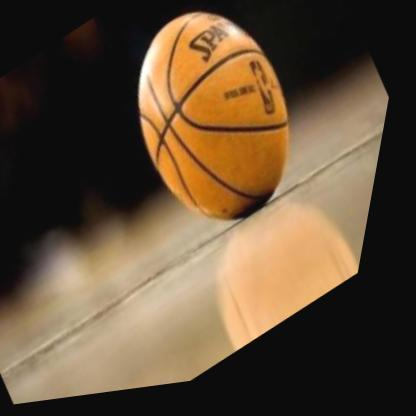basketball: (77, 0, 367, 278)
